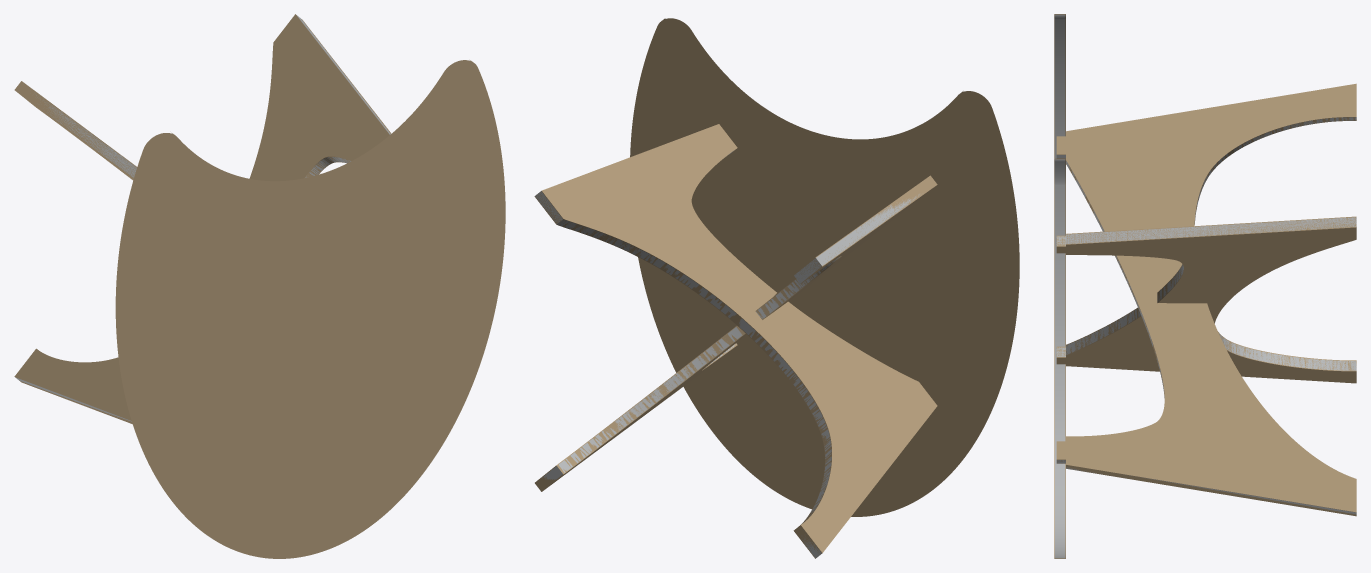
Rendered from NODO_MESA_RATONA_EN_CRUZ_CUARZO_V7.glb.
3 views of the same model, side by side, from view 1: azimuth 30°, elevation 25°; view 2: azimuth 150°, elevation 25°; view 3: azimuth 270°, elevation 25° (orthographic).
Parts seen in each view (by area): view 1: Tapa_cantos, Pata_A_cantos, Pata_B_cantos, Pata_B_Kiri, Pata_A_Kiri; view 2: Tapa_cantos, Pata_A_cantos, Pata_B_cantos, Pata_B_Kiri, Pata_A_Kiri; view 3: Pata_B_cantos, Pata_A_cantos, Pata_A_Kiri, Tapa_Kiri, Pata_B_Kiri, Tapa_cantos.
Boxes of the visible parts, box(x1,y1,x2,y2) form: Tapa_cantos: box(115, 60, 505, 558); Pata_A_cantos: box(14, 14, 391, 423); Pata_B_cantos: box(14, 81, 137, 180); Pata_B_Kiri: box(36, 95, 136, 177); Pata_A_Kiri: box(15, 15, 390, 421); Tapa_cantos: box(630, 18, 1019, 516); Pata_A_cantos: box(534, 124, 937, 558); Pata_B_cantos: box(535, 175, 937, 491); Pata_B_Kiri: box(542, 194, 919, 479); Pata_A_Kiri: box(535, 151, 831, 558); Pata_B_cantos: box(1056, 83, 1356, 516); Pata_A_cantos: box(1056, 216, 1356, 383); Pata_A_Kiri: box(1056, 217, 1356, 370); Tapa_Kiri: box(1055, 14, 1065, 558); Pata_B_Kiri: box(1056, 117, 1356, 514); Tapa_cantos: box(1054, 14, 1065, 558).
Bounding box in the file's own units: 0.6924 × 0.7771 × 0.468.
